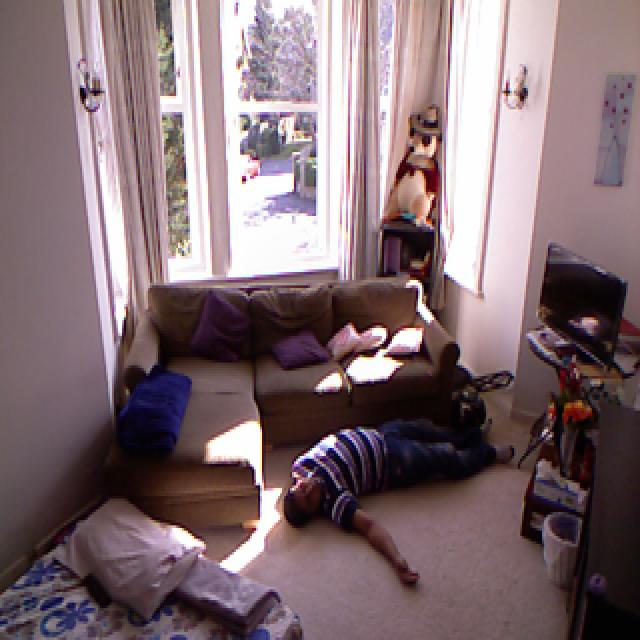lying: (279, 410, 520, 587)
